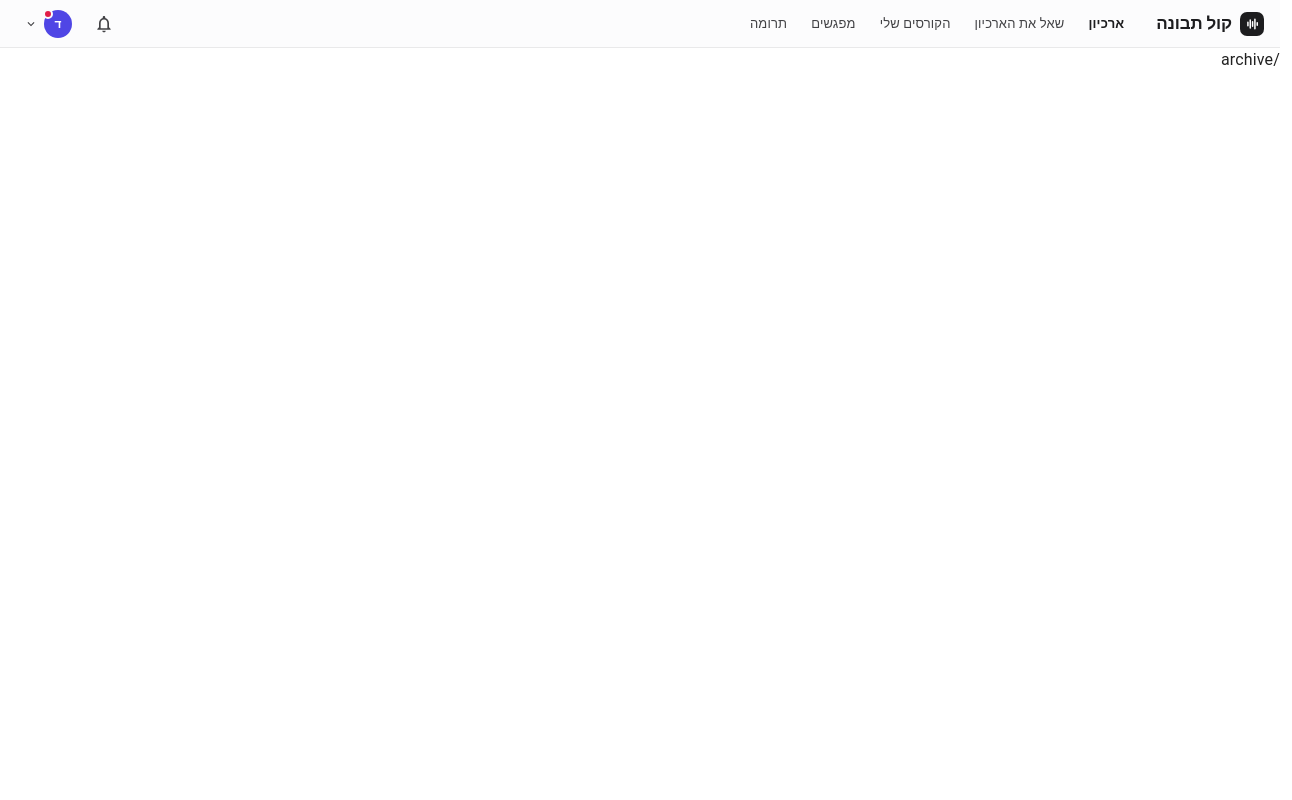
Test case: waiting role requests (D-08) › show on the avatar button's name and on the users item
This screenshot has width=1292, height=800.
Step 1. Click the button named "תפריט החשבון, 3 בקשות ממתינות" → click(46, 24), box [16,6,76,42]
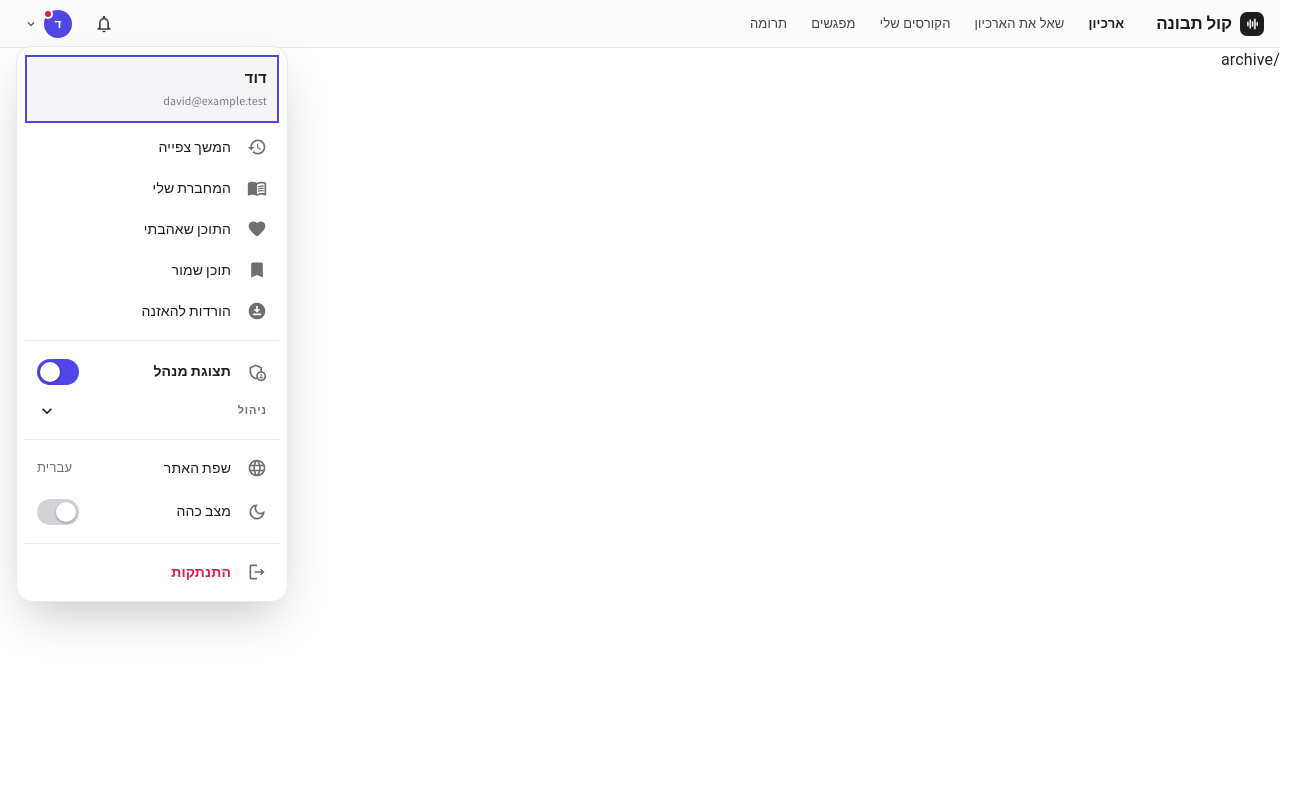
Step 2. Click the menu item "ניהול" → click(252, 410), box [37,400,267,420]
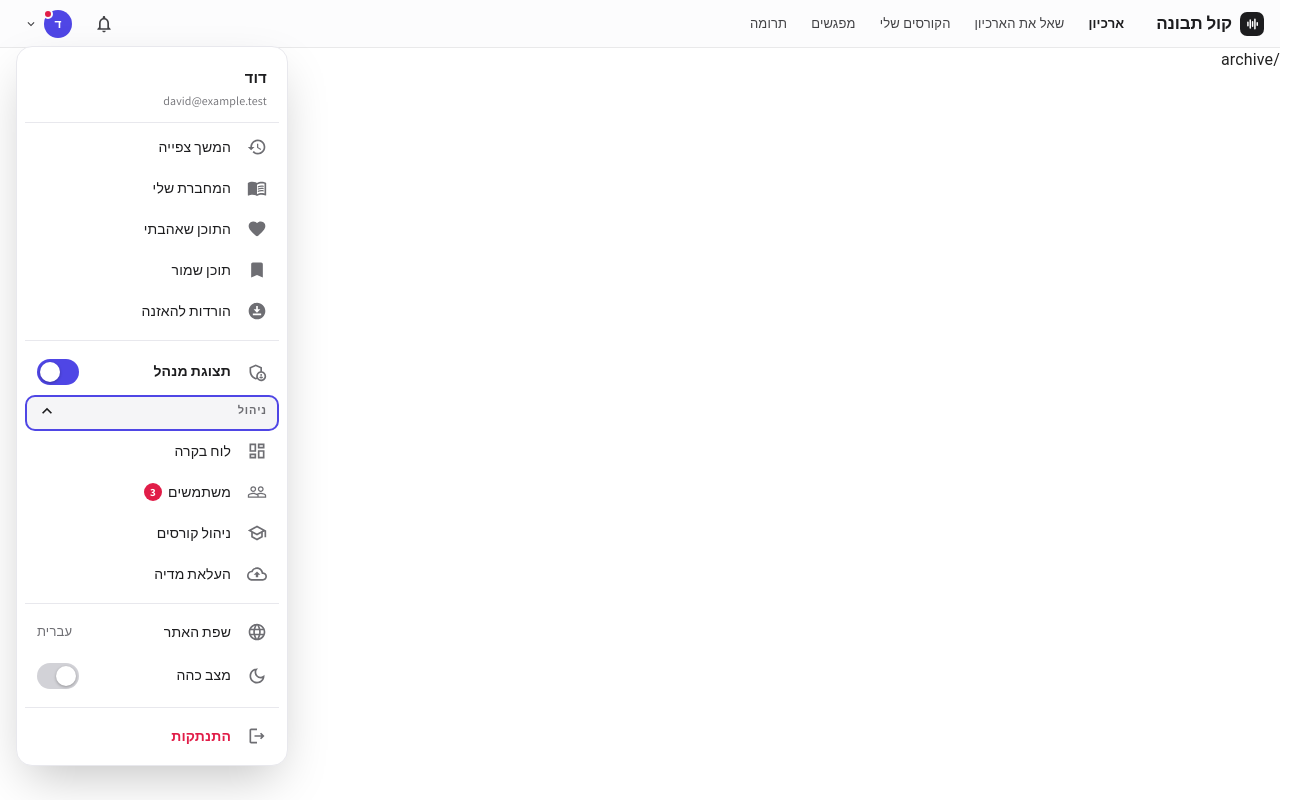
Expected: the element named "משתמשים, 3 בקשות ממתינות" is shown, [144,482,231,502]
